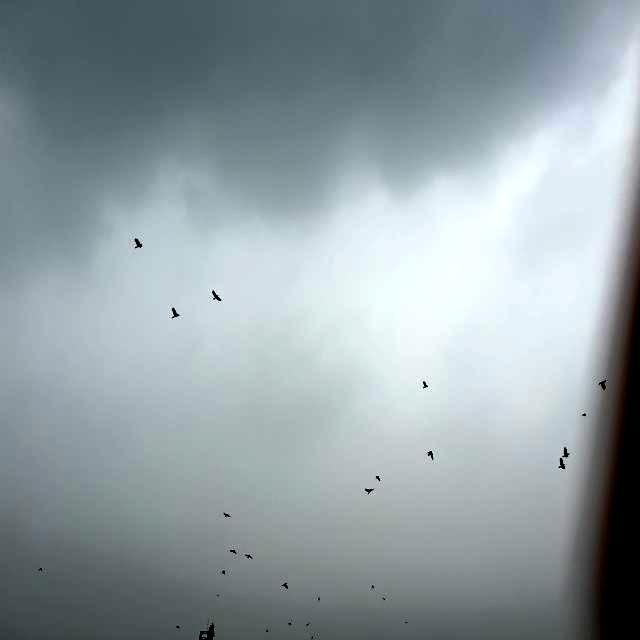bird: (31, 558, 54, 580), (594, 370, 610, 398), (131, 232, 148, 258), (236, 546, 258, 566), (167, 300, 184, 324), (221, 506, 239, 528), (276, 576, 292, 596), (374, 593, 394, 609), (420, 376, 434, 398), (207, 289, 224, 307), (226, 542, 241, 562), (371, 470, 387, 488), (218, 564, 232, 583), (282, 614, 296, 633), (258, 622, 272, 640), (301, 615, 314, 634), (314, 589, 328, 605), (398, 615, 414, 629), (562, 444, 572, 462), (368, 578, 378, 596), (425, 448, 436, 462), (557, 461, 568, 474), (364, 486, 374, 496)
